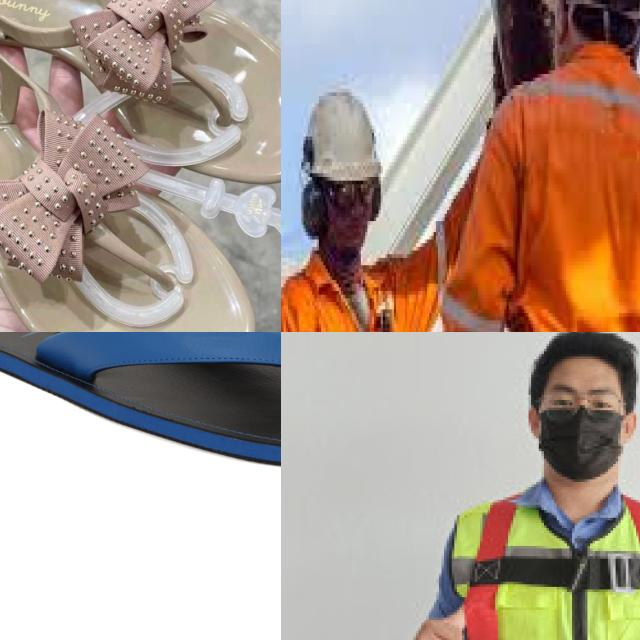Ear-protection: (294, 173, 326, 236)
Harness: (465, 494, 640, 640)
Sandals: (0, 0, 281, 332), (0, 332, 281, 472)
glasses: (323, 170, 374, 218)
head_helmet: (297, 82, 385, 185)
person: (420, 0, 640, 332), (281, 75, 423, 332)
